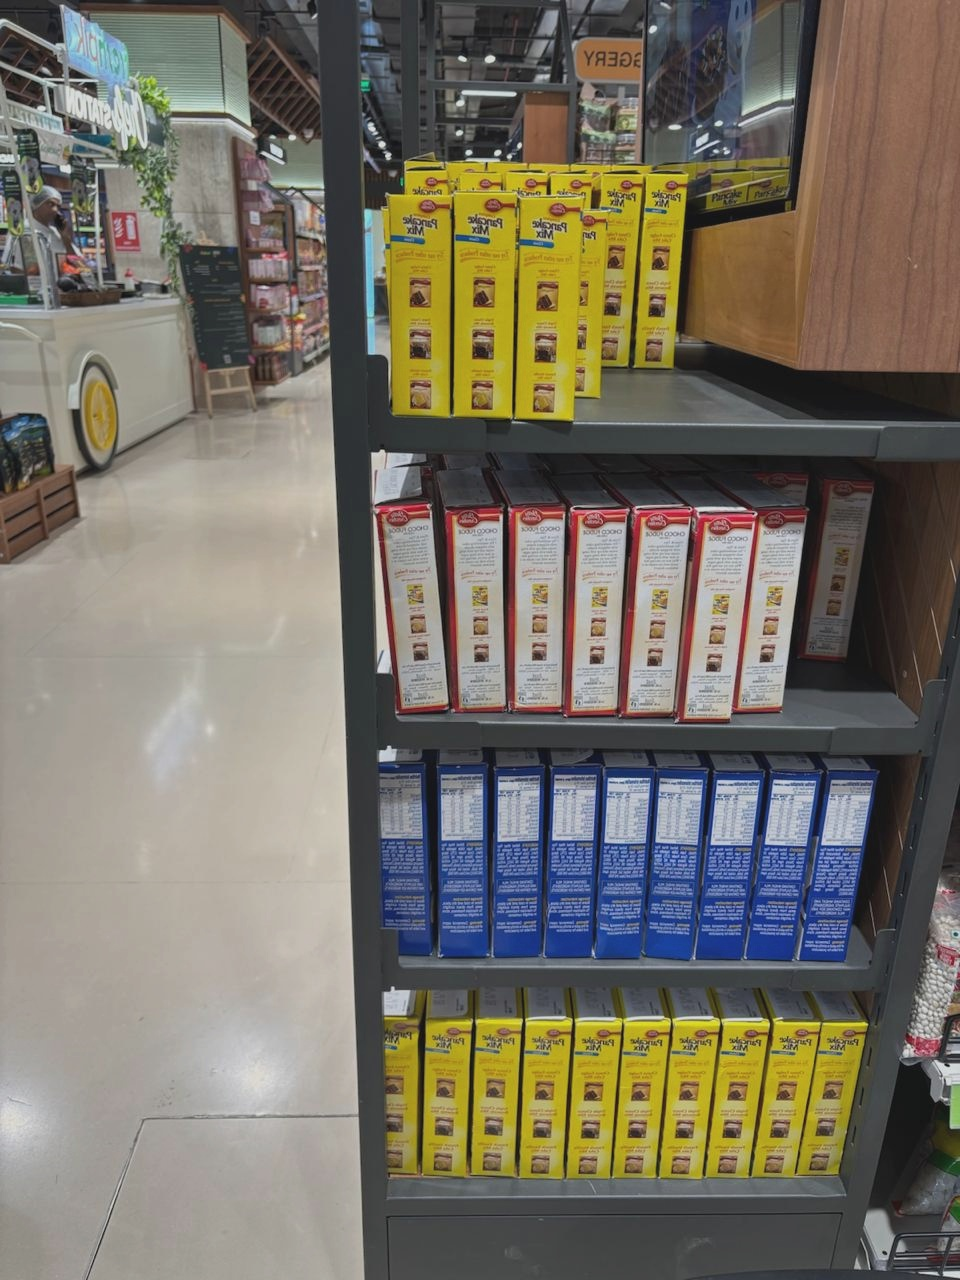Betty Crocker Pancake Mix: (382, 191, 461, 421), (509, 194, 585, 426), (451, 190, 517, 418), (799, 1018, 870, 1192), (632, 169, 694, 372), (748, 1018, 821, 1186), (704, 1016, 773, 1186), (560, 1017, 625, 1189), (609, 1014, 675, 1185), (458, 1014, 524, 1182), (414, 1014, 479, 1184), (514, 1014, 578, 1186), (659, 1017, 721, 1184), (596, 164, 642, 367), (375, 1012, 422, 1188)
